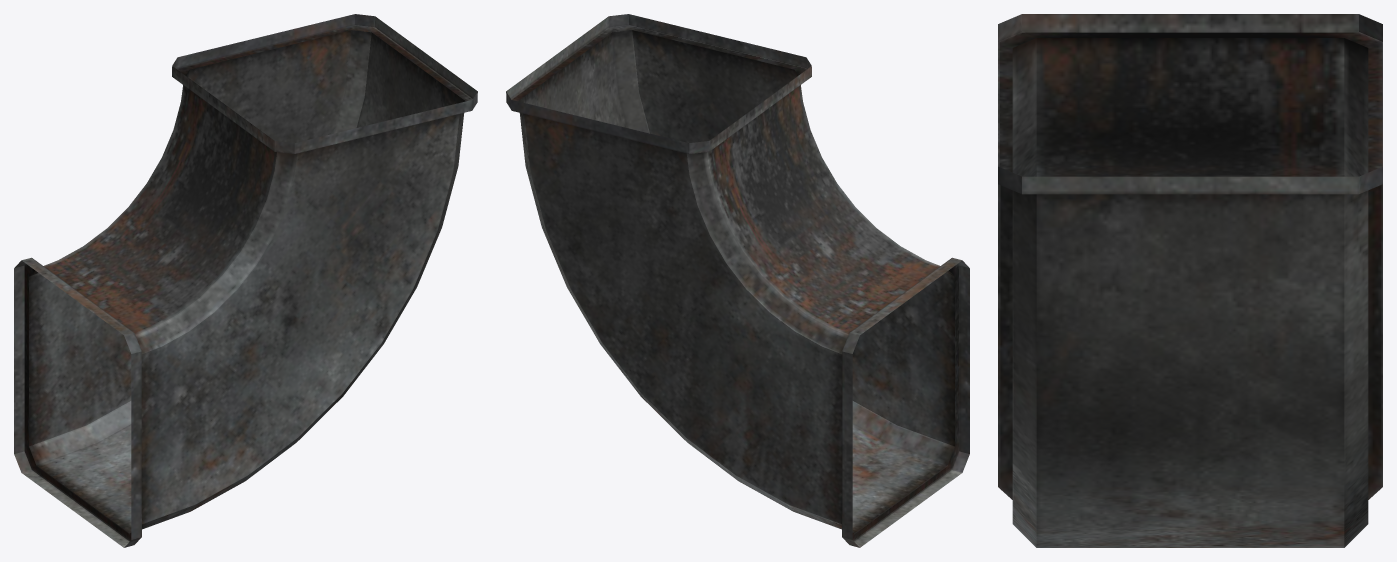
File: VentCurve.FBX
3 renders of one model, left to right at view 1: azimuth 30°, elevation 25°; view 2: azimuth 150°, elevation 25°; view 3: azimuth 270°, elevation 25°, orthographic. The views are drawn at different scales.
Parts seen in each view (by area): view 1: VentCurve; view 2: VentCurve; view 3: VentCurve.
Part boxes in pixels (x1,y1,x2,y2): VentCurve: [14, 14, 477, 547]; VentCurve: [506, 14, 969, 547]; VentCurve: [998, 14, 1382, 547].
Size of the model in its own units: 139 by 139 by 79.96.
